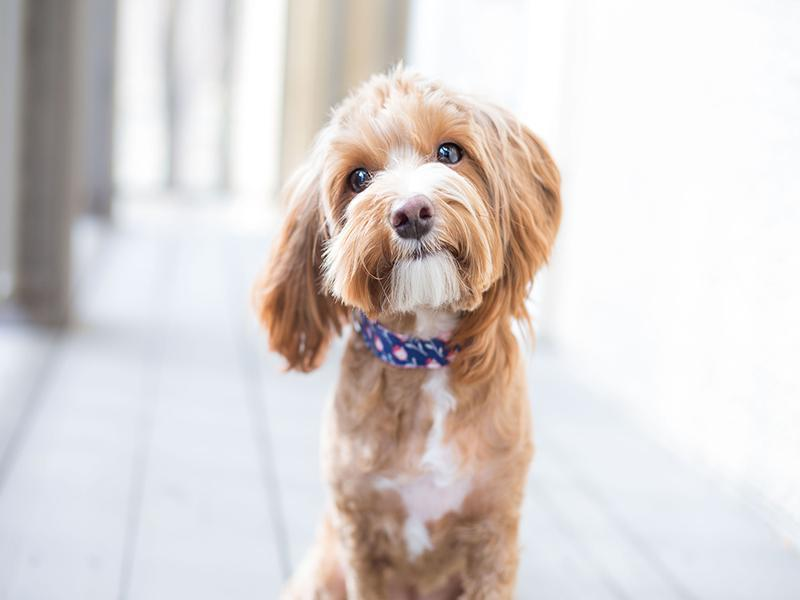dog: (259, 67, 567, 597)
